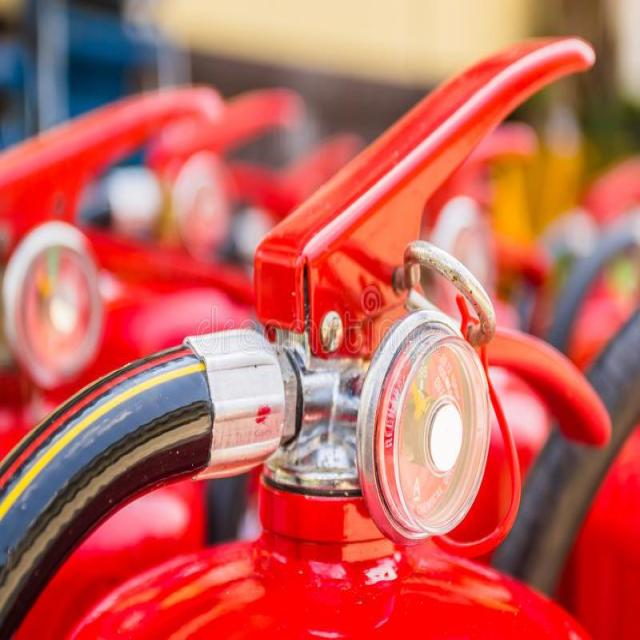fire_extinguisher: (0, 30, 618, 639)
